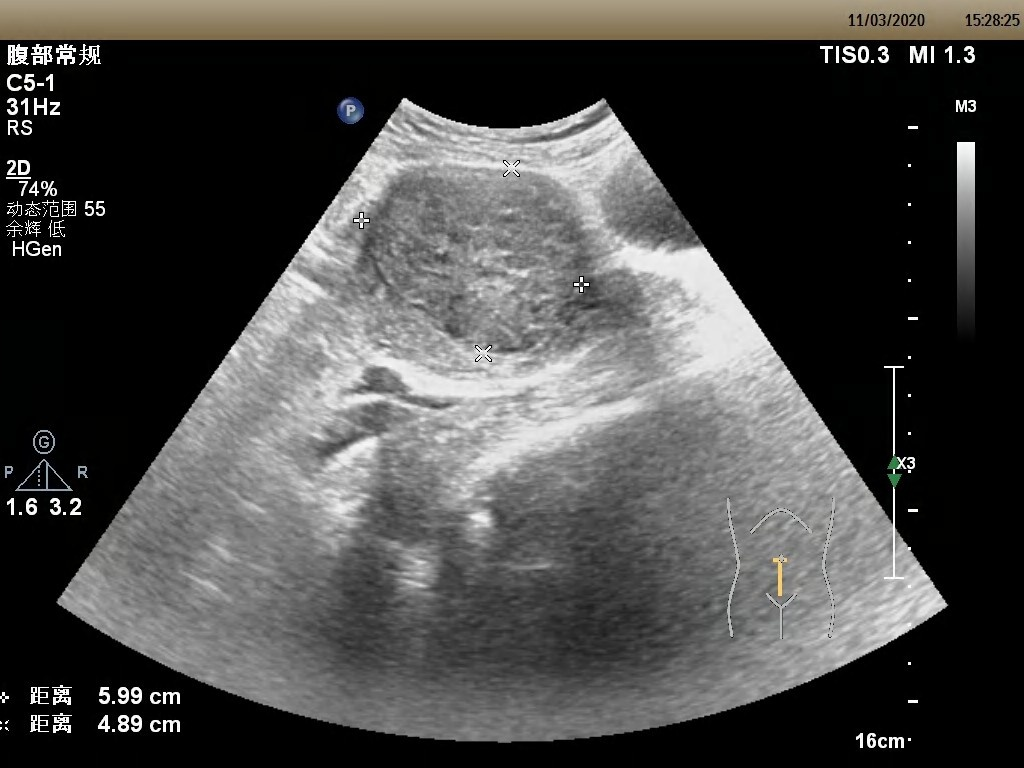肌瘤: (361, 170, 581, 355)
